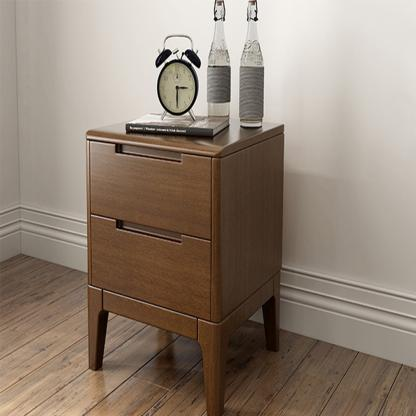Nightstand: (88, 114, 280, 382)
